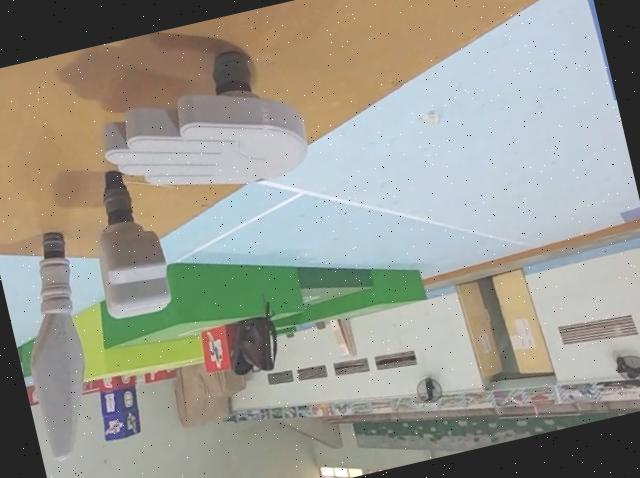Fist: (78, 162, 180, 322)
Hand: (79, 23, 317, 218)
Sph: (0, 226, 116, 462)
